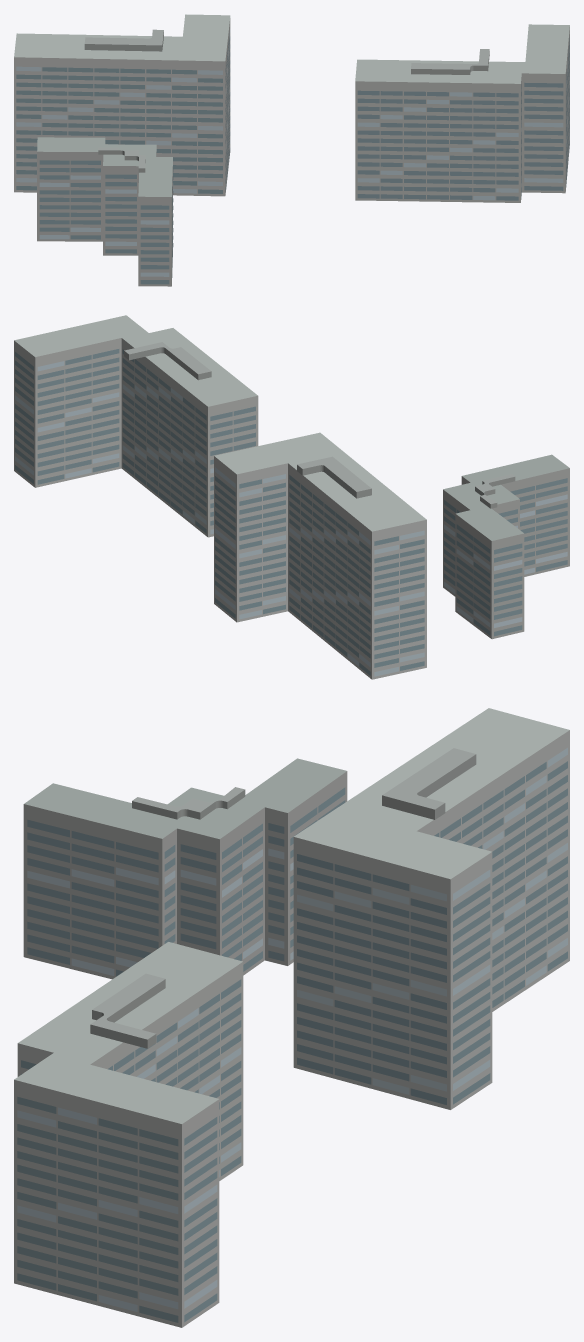
File: apt-a15080604.glb
3 views of the same model, one above another, from view 1: azimuth 30°, elevation 25°; view 2: azimuth 150°, elevation 25°; view 3: azimuth 270°, elevation 25° (orthographic). The views are drawn at different scales.
Visible parts, largest first — view 1: apt-a15080604; view 2: apt-a15080604; view 3: apt-a15080604.
Boxes of the visible parts, x1,y1,x2,y2 form: apt-a15080604: (14, 14, 569, 286); apt-a15080604: (14, 315, 569, 679); apt-a15080604: (14, 708, 569, 1327).
Bounding box in the file's own units: 201 × 54.18 × 113.
